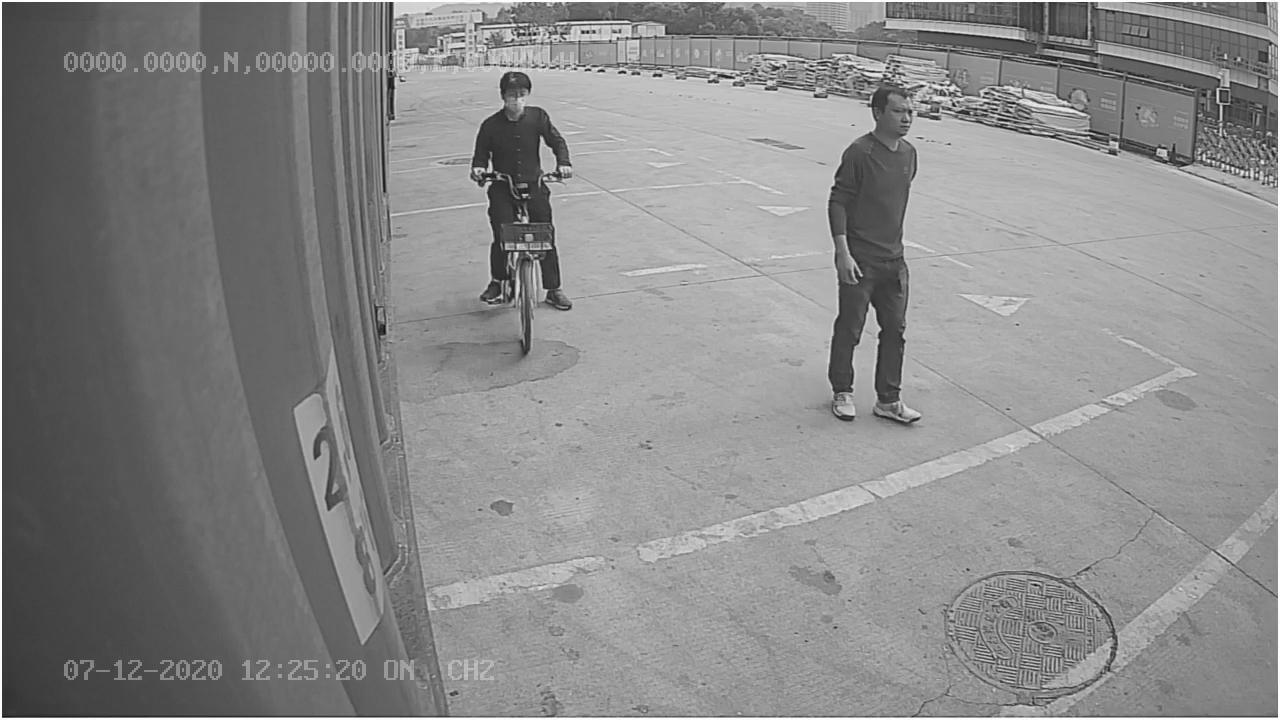person: (820, 84, 929, 426)
